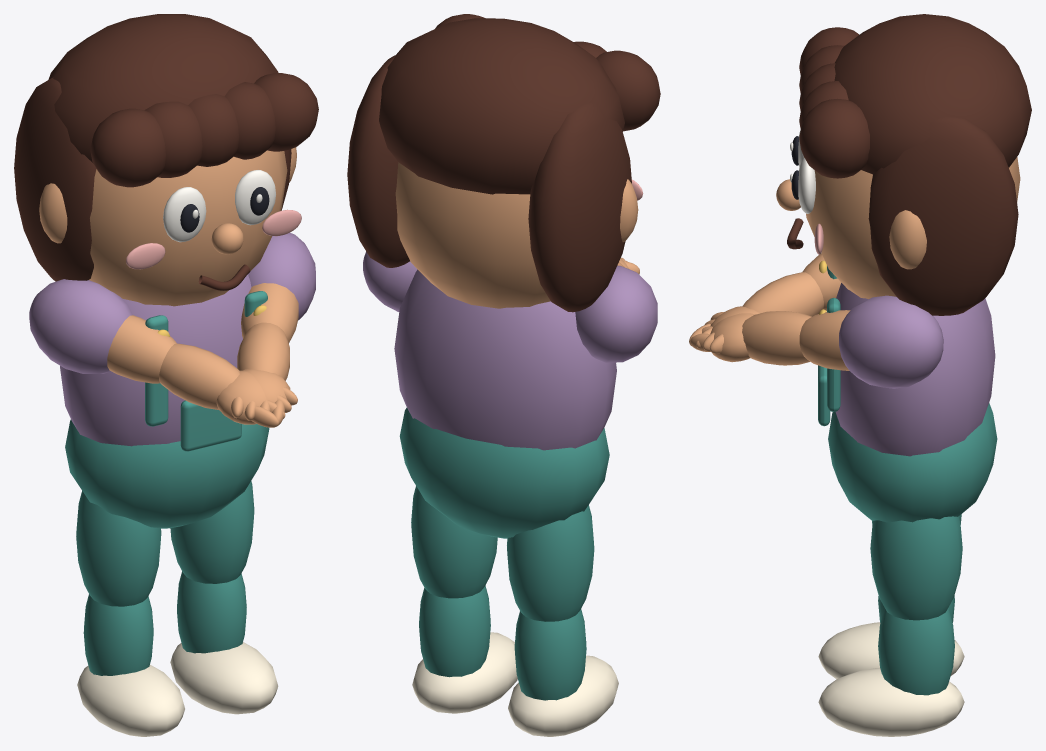
The model's file is mommy-clap.glb.
3 renders of one model, left to right at view 1: azimuth 30°, elevation 25°; view 2: azimuth 150°, elevation 25°; view 3: azimuth 270°, elevation 25°, orthographic. The views are drawn at different scales.
Visible parts, largest first — view 1: hair cap, clay head, overalls, soft shirt, bob hair, shirt sleeve, trouser leg, little shoe, little shoe.001, trouser leg.001, fringe, lower leg (+21 smaller); view 2: hair cap, soft shirt, overalls, bob hair, clay head, trouser leg, bob hair.001, trouser leg.001, shirt sleeve, lower leg, lower leg.001, little shoe (+4 smaller); view 3: bob hair.001, hair cap, soft shirt, overalls, trouser leg.001, shirt sleeve.001, clay head, little shoe.001, lower leg.001, fringe.004, forearm.001, little shoe (+12 smaller).
Part boxes in pixels (x1,y1,x2,y2): hair cap: (48,14,278,162); clay head: (89,150,287,306); overalls: (65,419,269,528); soft shirt: (60,274,251,446); bob hair: (14,77,96,281); shirt sleeve: (29,279,132,373); trouser leg: (76,491,161,606); little shoe: (77,665,184,736); little shoe.001: (170,642,278,714); trouser leg.001: (170,481,254,583); fringe: (90,108,165,187); lower leg: (83,594,153,675); hair cap: (379,18,624,194); soft shirt: (394,269,616,450); overalls: (399,407,609,538); bob hair: (528,103,631,312); clay head: (395,162,550,308); trouser leg: (507,505,594,621); bob hair.001: (347,55,409,267); trouser leg.001: (411,486,497,598); shirt sleeve: (575,265,657,362); lower leg: (514,609,586,700); lower leg.001: (419,585,490,677); little shoe: (508,655,618,736); bob hair.001: (868,117,1018,315); hair cap: (834,14,1031,174); soft shirt: (835,283,995,456); overalls: (828,403,997,522); trouser leg.001: (870,516,962,620); shirt sleeve.001: (839,295,943,388); clay head: (804,157,1020,299); little shoe.001: (818,668,964,736); lower leg.001: (878,608,954,695); fringe.004: (799,98,869,178); forearm.001: (742,311,811,365); little shoe: (818,622,964,678).
Bounding box in the file's own units: 0.9029 × 2.14 × 0.9805.
